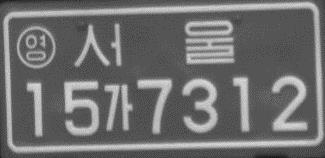1: (227, 74, 256, 134), (21, 79, 49, 140)
2: (268, 75, 308, 133)
3: (180, 77, 220, 135)
5: (61, 78, 99, 137)
7: (131, 77, 175, 136)
가: (101, 82, 134, 133)
서울_D: (70, 17, 237, 71)
영: (15, 23, 57, 69)
